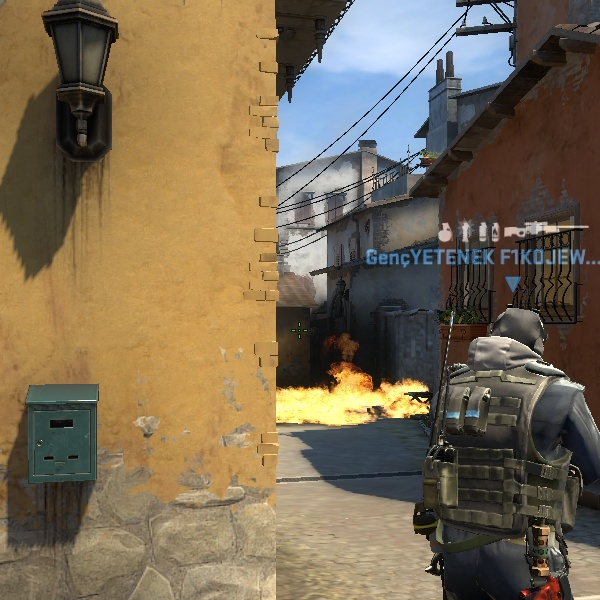ct_body: (377, 299, 594, 597)
